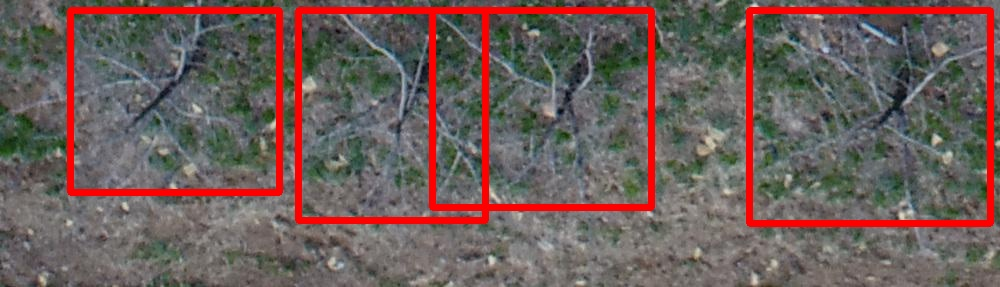apple: (749, 10, 990, 223), (432, 10, 651, 207), (298, 10, 485, 220), (70, 10, 279, 192)
